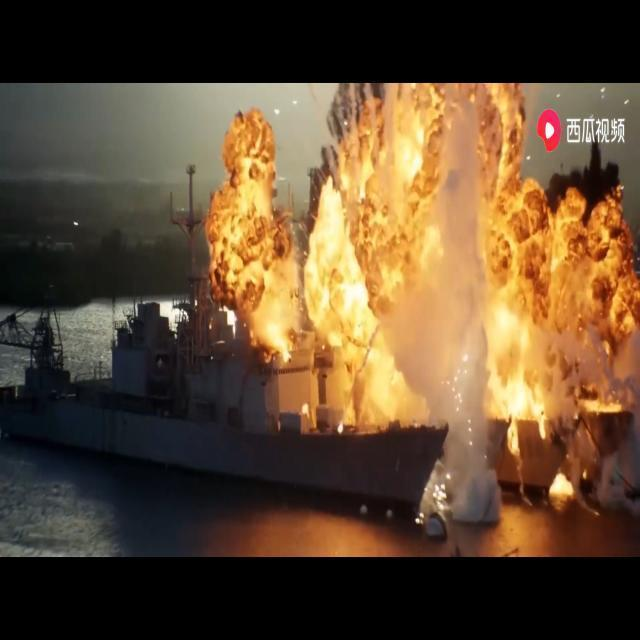fire: (206, 85, 637, 484)
